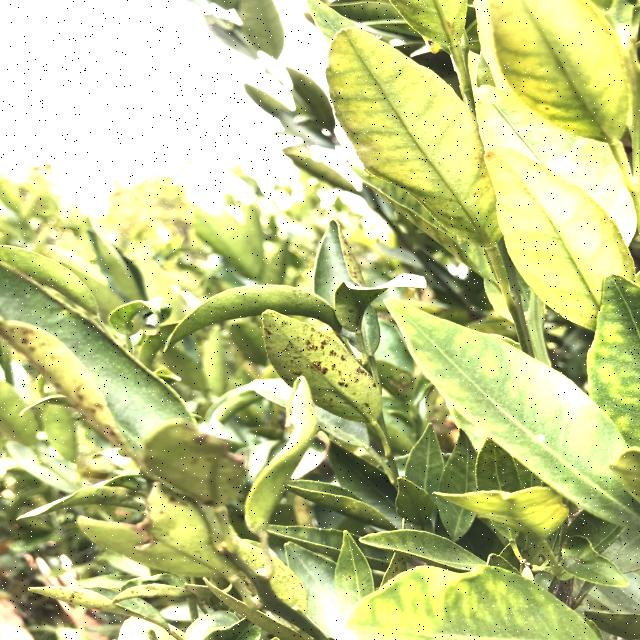melanose: (0, 315, 199, 468), (253, 308, 392, 426), (36, 579, 154, 621)
